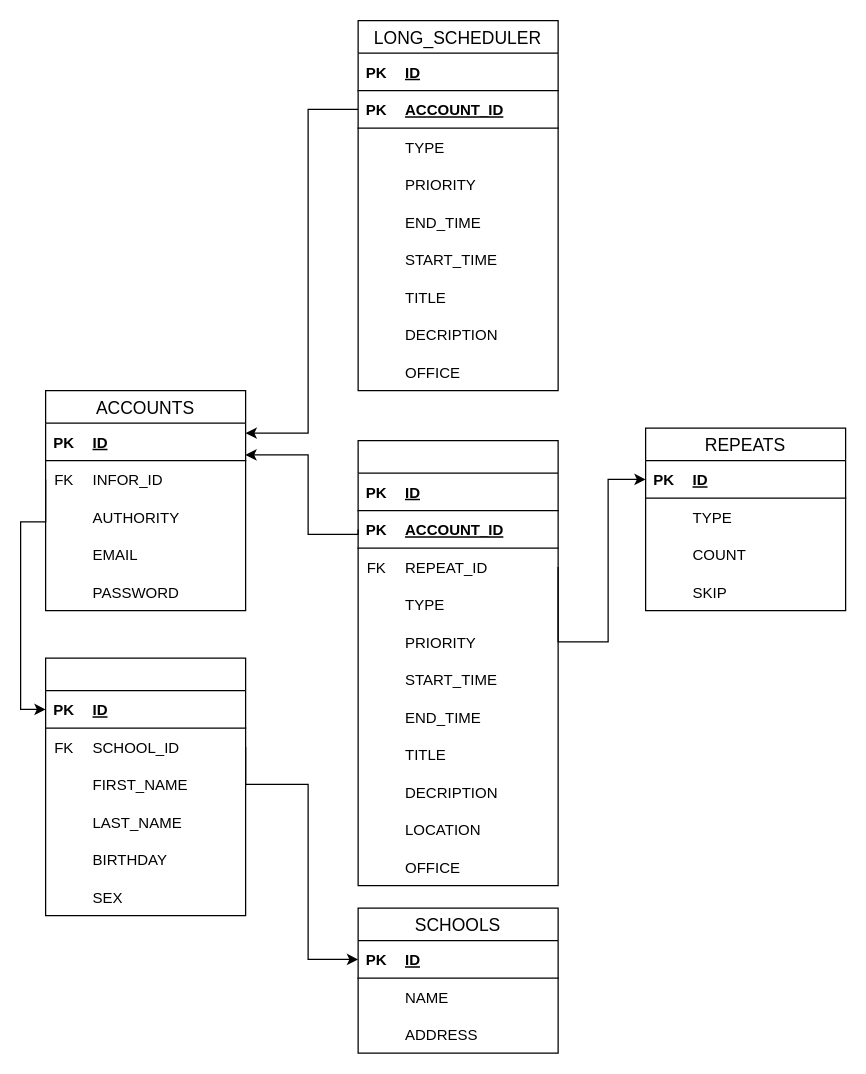
This 866x1074 diagram has some shape labels left out. The shapes that lost their labels are listed below. From the top down, each one's box as (x1, y1, x2, y2) in pixels, then its label:
(357, 439, 558, 886): SHORT_SCHEDULER
(44, 657, 246, 916): INFORS
